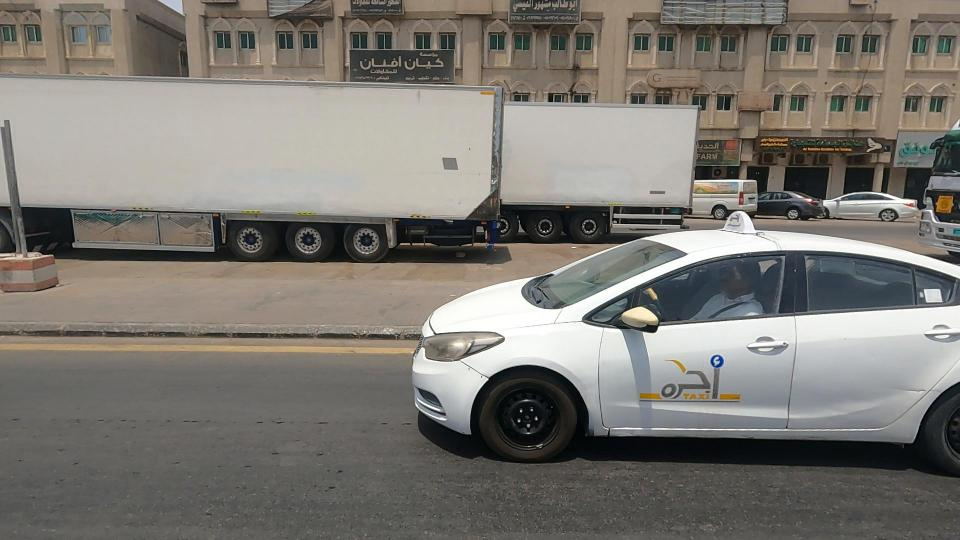BAD_BILLBOARD: (582, 0, 862, 64)
